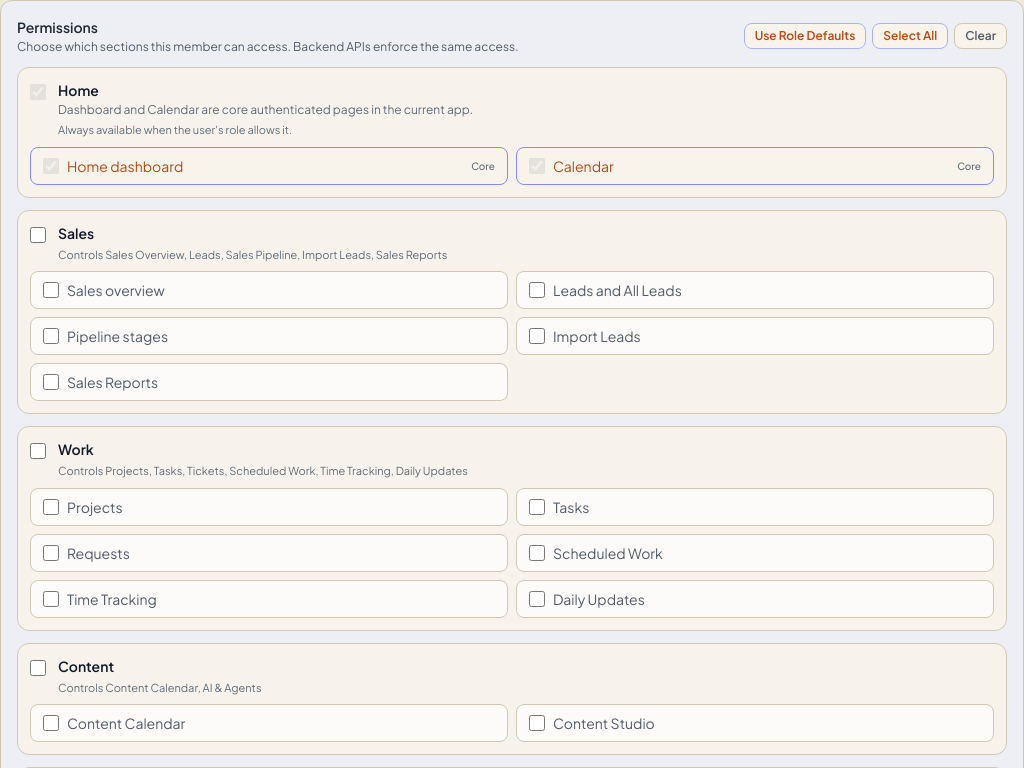
ModulePermissionSelector › Use Role Defaults restores the role baseline
This screenshot has width=1024, height=768.
Click the button "Use Role Defaults": x=805, y=36 744,23 -> 866,49
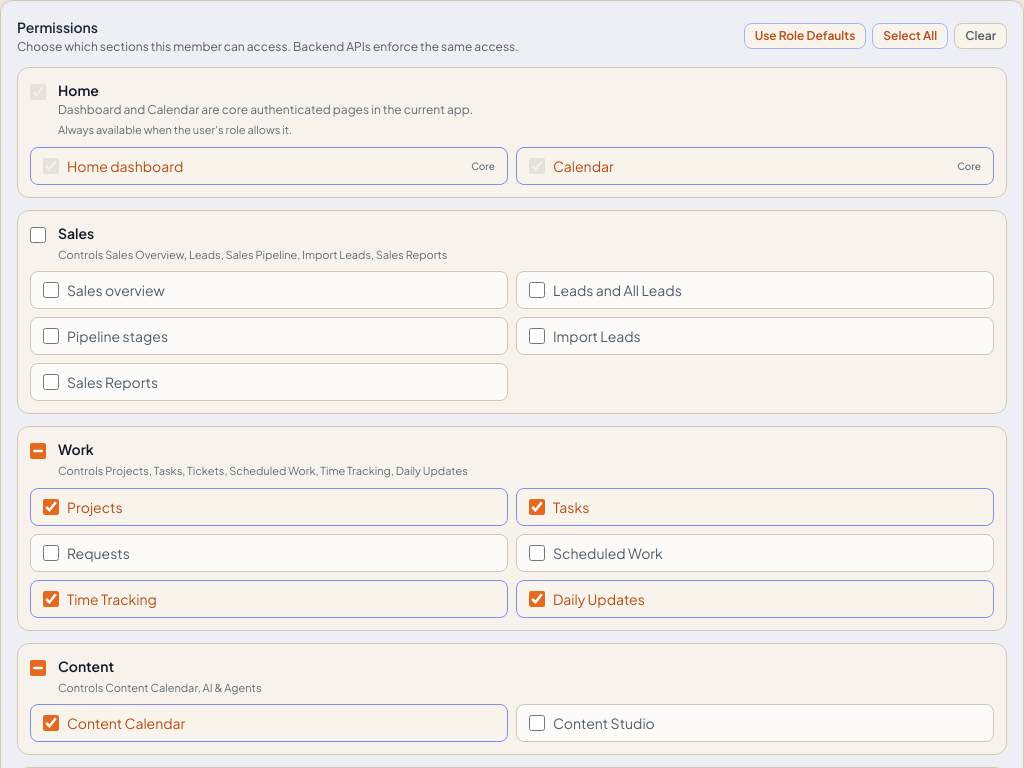
Expected: the checkbox labelled "Projects" is checked, 43,498 -> 59,514
Expected: the checkbox labelled "Tasks" is checked, 529,498 -> 545,514
